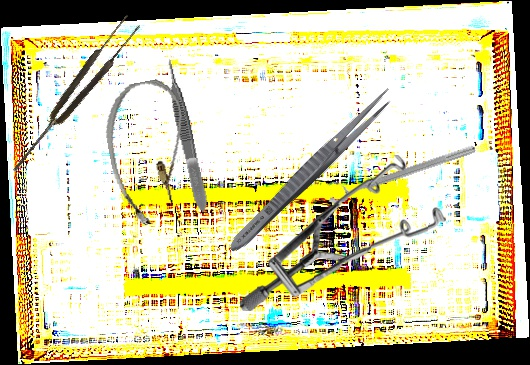Cannula: (97, 75, 201, 230)
Dressing Forceps: (223, 83, 399, 258)
Fixation Ring: (322, 133, 478, 207)
Speculum: (237, 154, 448, 311)
Tissue Forceps: (3, 13, 144, 178), (162, 56, 211, 214)
